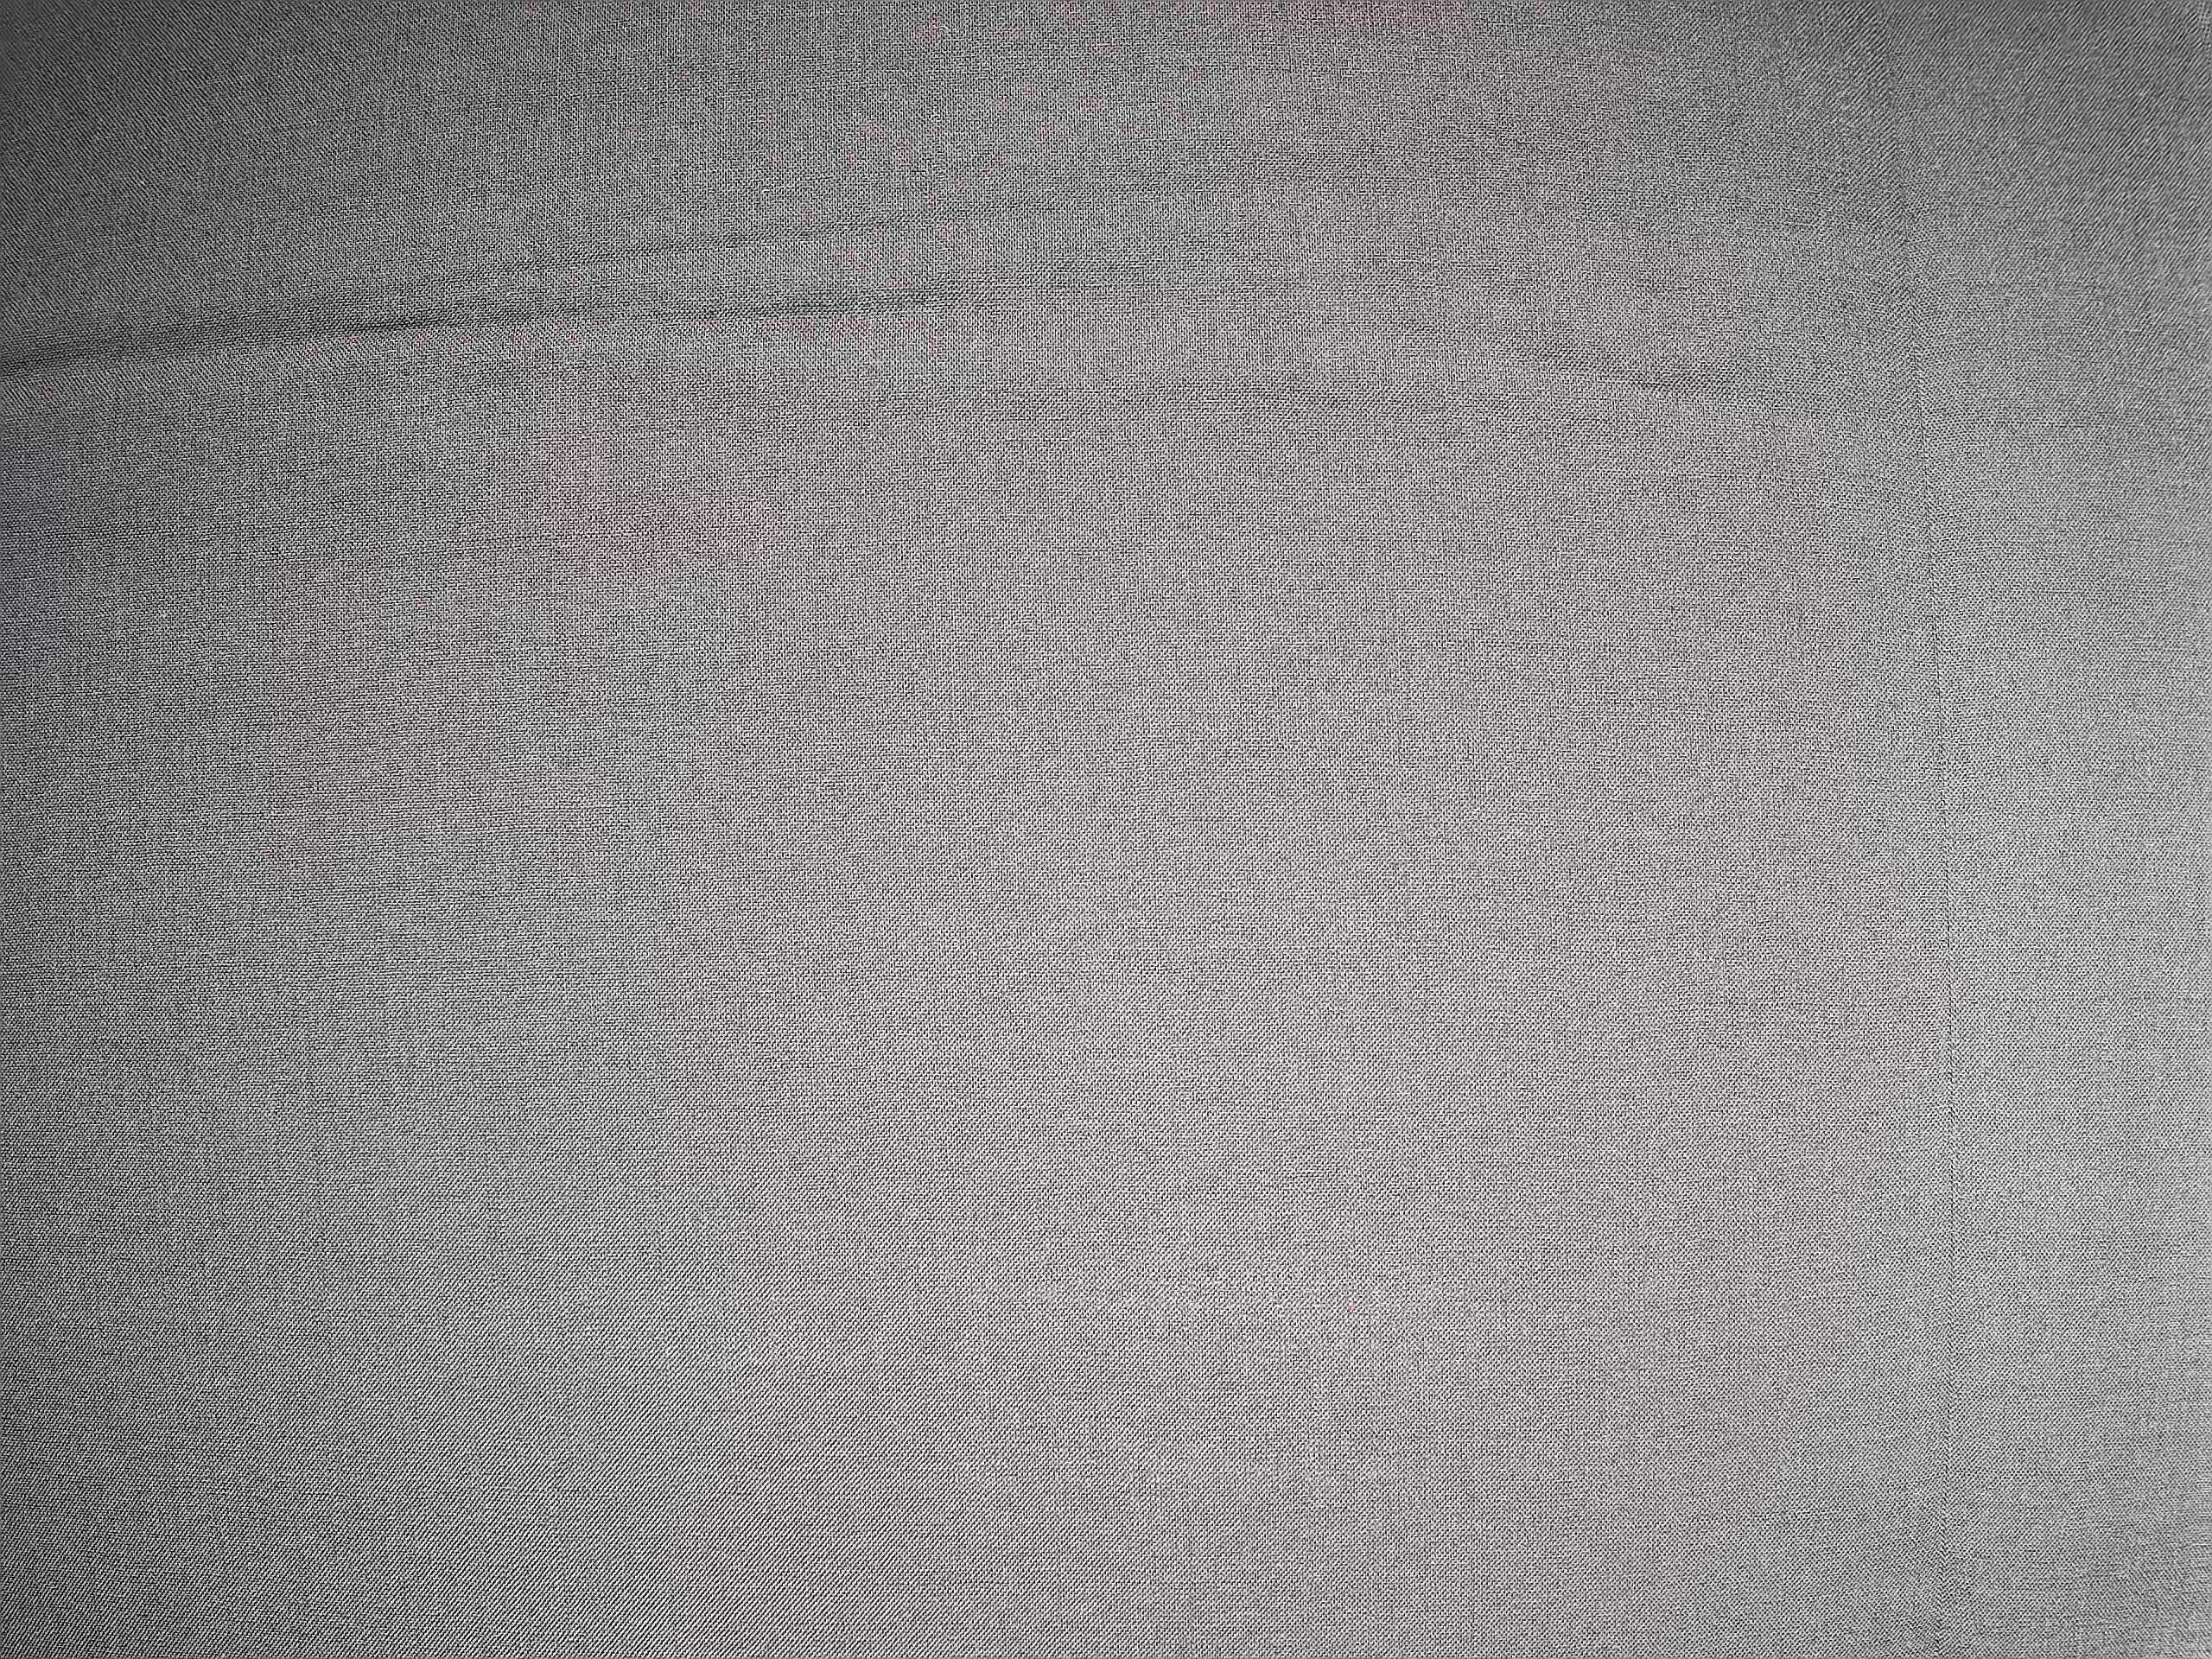hanging-warp: (1871, 24, 1973, 1659)
